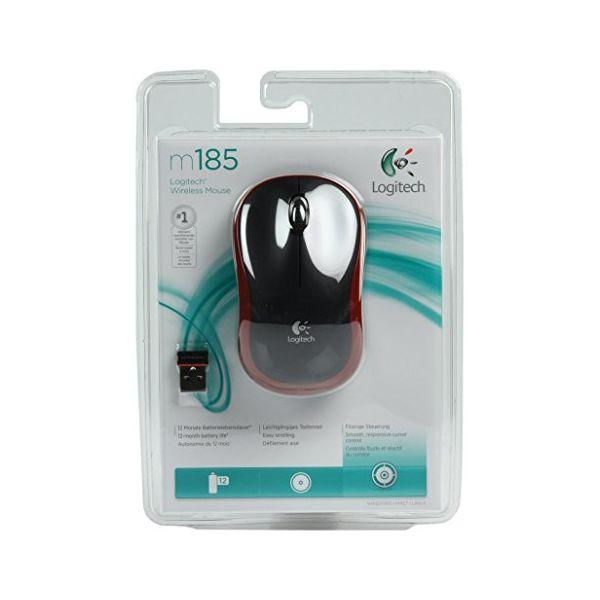logitech-mouse-m185: (234, 159, 389, 402)
